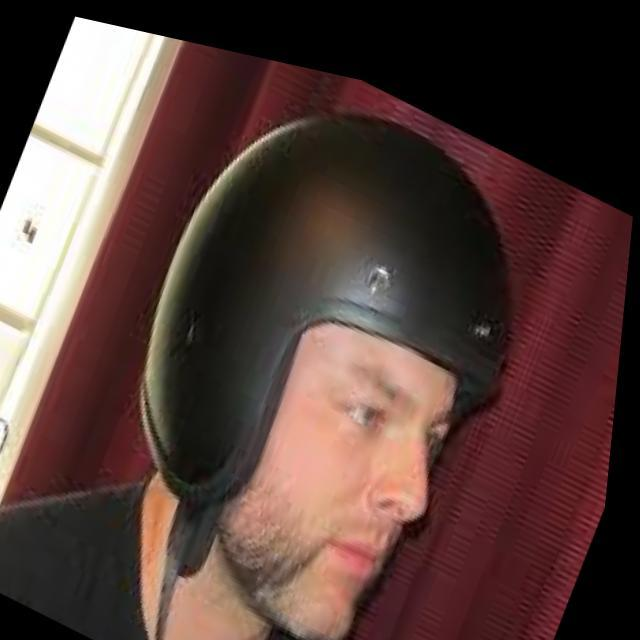Helmet: (129, 107, 519, 639)
